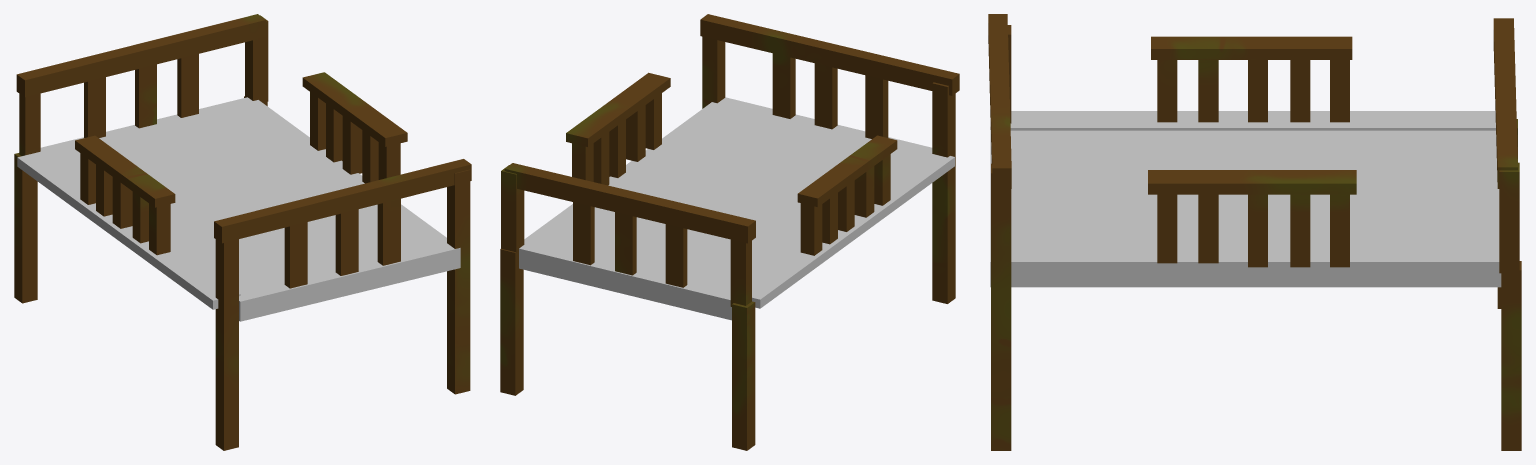
The model's file is Bridge.fbx.
The picture shows the model from 3 angles, left to right: view 1: azimuth 30°, elevation 25°; view 2: azimuth 150°, elevation 25°; view 3: azimuth 270°, elevation 25°; orthographic projection. The views are drawn at different scales.
Parts seen in each view (by area): view 1: MidbridgeShape; view 2: MidbridgeShape; view 3: MidbridgeShape.
Boxes of the visible parts, x1=… form: MidbridgeShape: x1=14, y1=14, x2=471, y2=450; MidbridgeShape: x1=500, y1=14, x2=959, y2=450; MidbridgeShape: x1=988, y1=14, x2=1521, y2=450.
Bounding box in the file's own units: 500 × 425 × 724.
